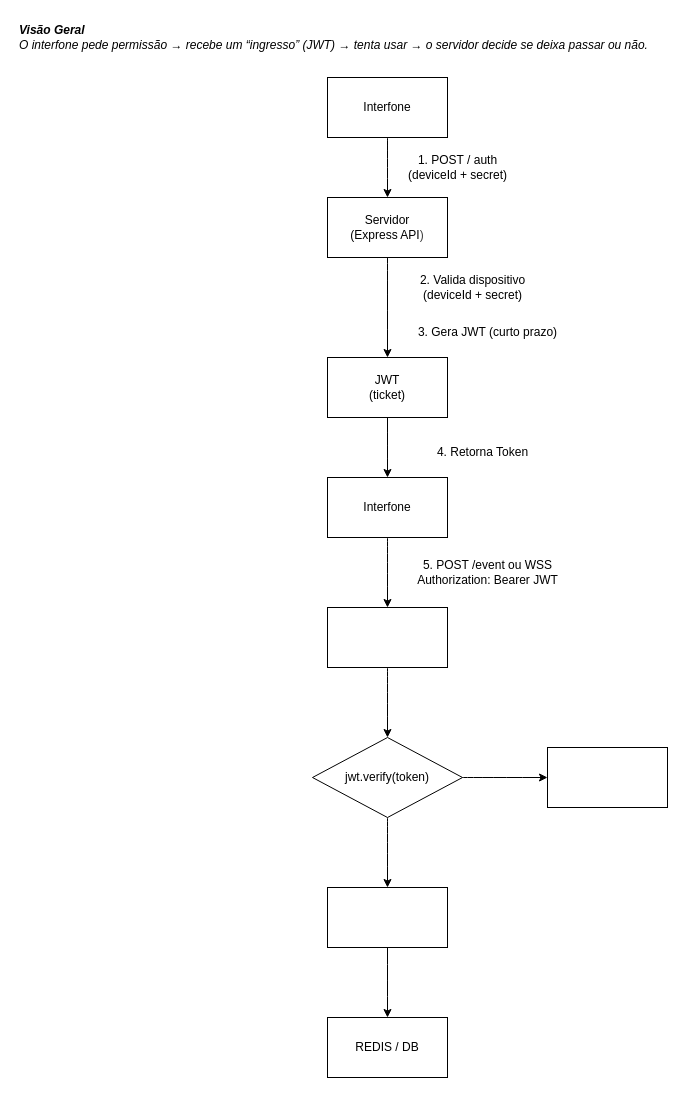
Some shapes in this 685 by 1095 pixel diagram are drawn without their labels. The box of each missing label's shape, as (x1, y1, x2, y2) in pixels:
Servidor: (326, 606, 448, 668)
✅ LIBERADO next(): (326, 886, 448, 948)
❌ NEGADO (401 / close): (546, 746, 668, 808)
